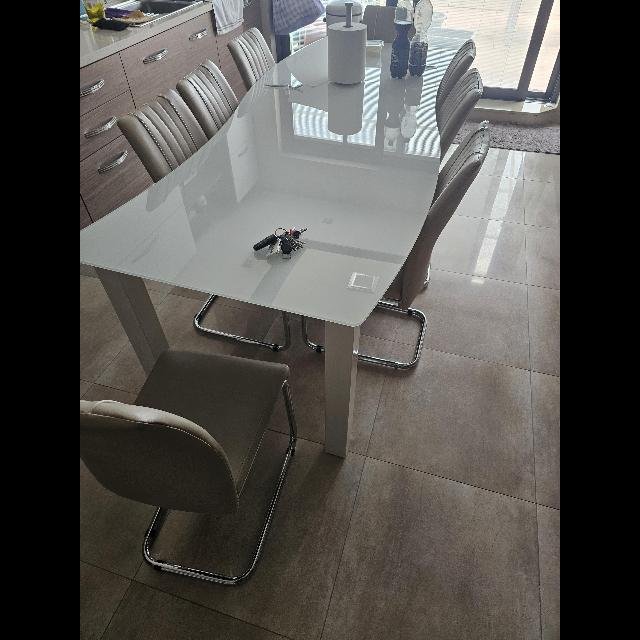Keys: (255, 225, 308, 257)
